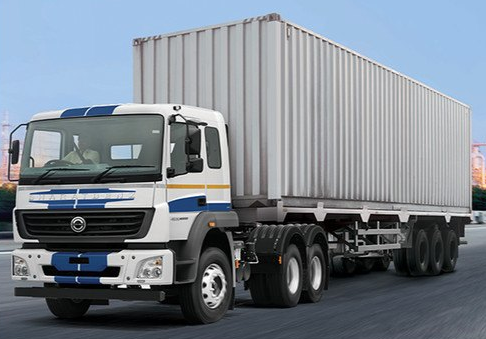truck: (8, 12, 475, 326)
